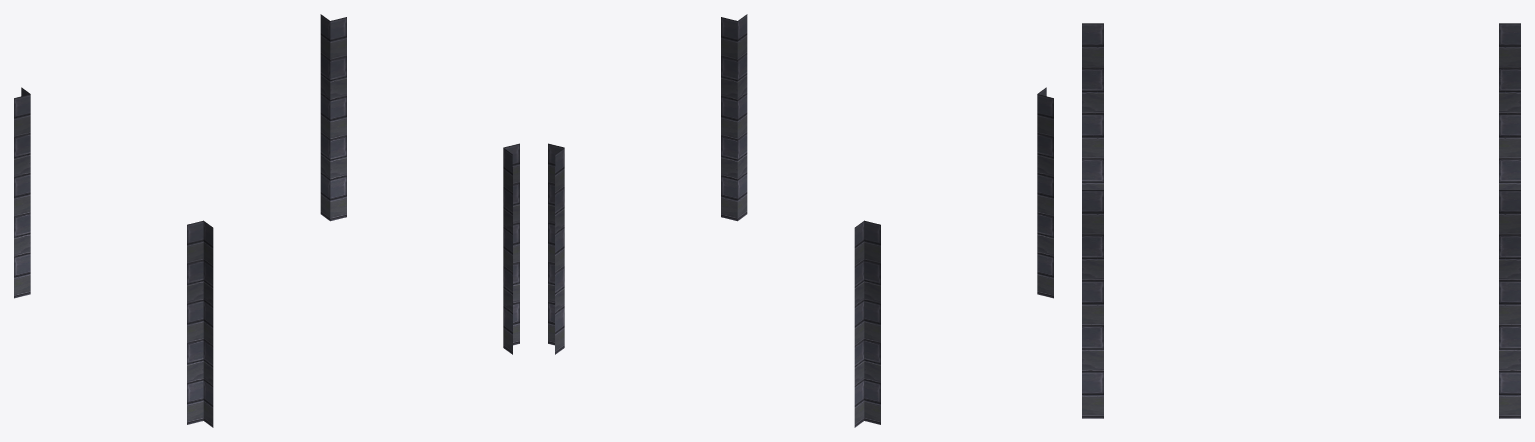
The model's file is dungeon_wall_corner4.FBX.
3 views of the same model, side by side, from view 1: azimuth 30°, elevation 25°; view 2: azimuth 150°, elevation 25°; view 3: azimuth 270°, elevation 25° (orthographic). The views are drawn at different scales.
Visible parts, largest first — view 1: Object023; view 2: Object023; view 3: Object023.
Part boxes in pixels (<box>): Object023: <box>14,14,519,427</box>; Object023: <box>548,14,1053,427</box>; Object023: <box>1082,23,1520,418</box>.
Size of the model in its own units: 1000 by 575 by 1000.
Materials: 1 (1 with a texture image).
